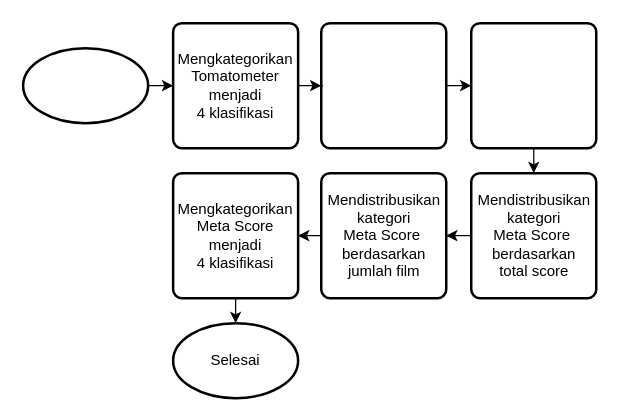
The diagram is 619 pixels wide and 420 high, and some of its shapes have lost their labels. Each missing label, with the centre of its shape:
"Mendistribusikan kategori Tomatometer berdasarkan jumlah film" belongs at point 383,85.
"Mendistribusikan kategori Tomatometer berdasarkan total score" belongs at point 533,85.
"Mulai" belongs at point 85,85.
